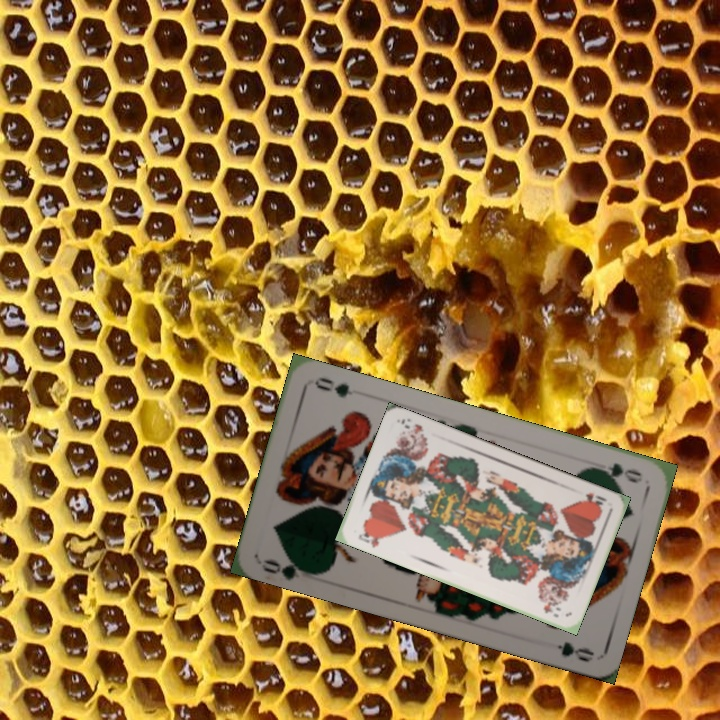GO: (257, 551, 317, 582), (588, 458, 646, 486)
HO: (354, 526, 386, 550), (578, 488, 609, 510)
